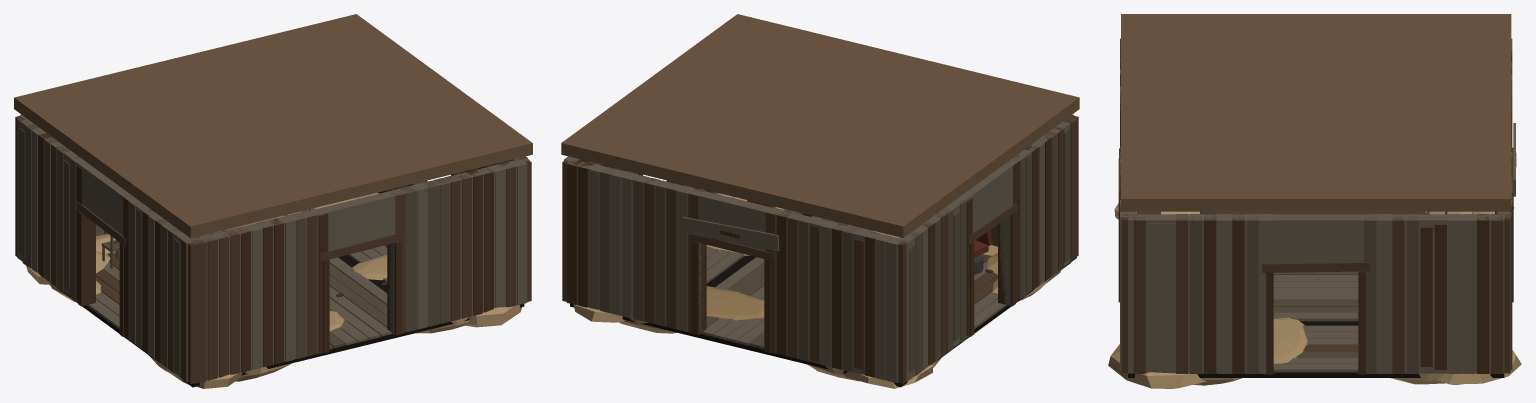
File: TownBldg_barber.glb
3 renders of one model, left to right at view 1: azimuth 30°, elevation 25°; view 2: azimuth 150°, elevation 25°; view 3: azimuth 270°, elevation 25°, orthographic. The views are drawn at different scales.
Visible parts, largest first — view 1: TownBldg_barber.001; view 2: TownBldg_barber.001; view 3: TownBldg_barber.001.
Part boxes in pixels (left/top/right/bottom): TownBldg_barber.001: left=14, top=14, right=532, bottom=388; TownBldg_barber.001: left=561, top=14, right=1079, bottom=388; TownBldg_barber.001: left=1108, top=14, right=1521, bottom=388.
Bounding box in the file's own units: 9.53 × 4.68 × 8.79.
